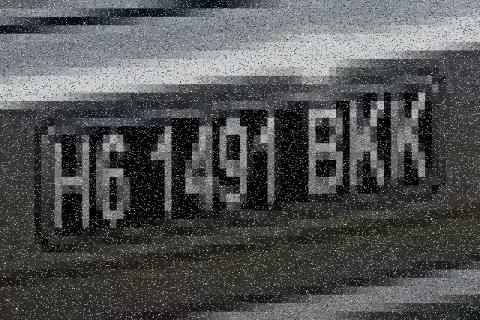LicensePlate: (24, 43, 446, 269)
